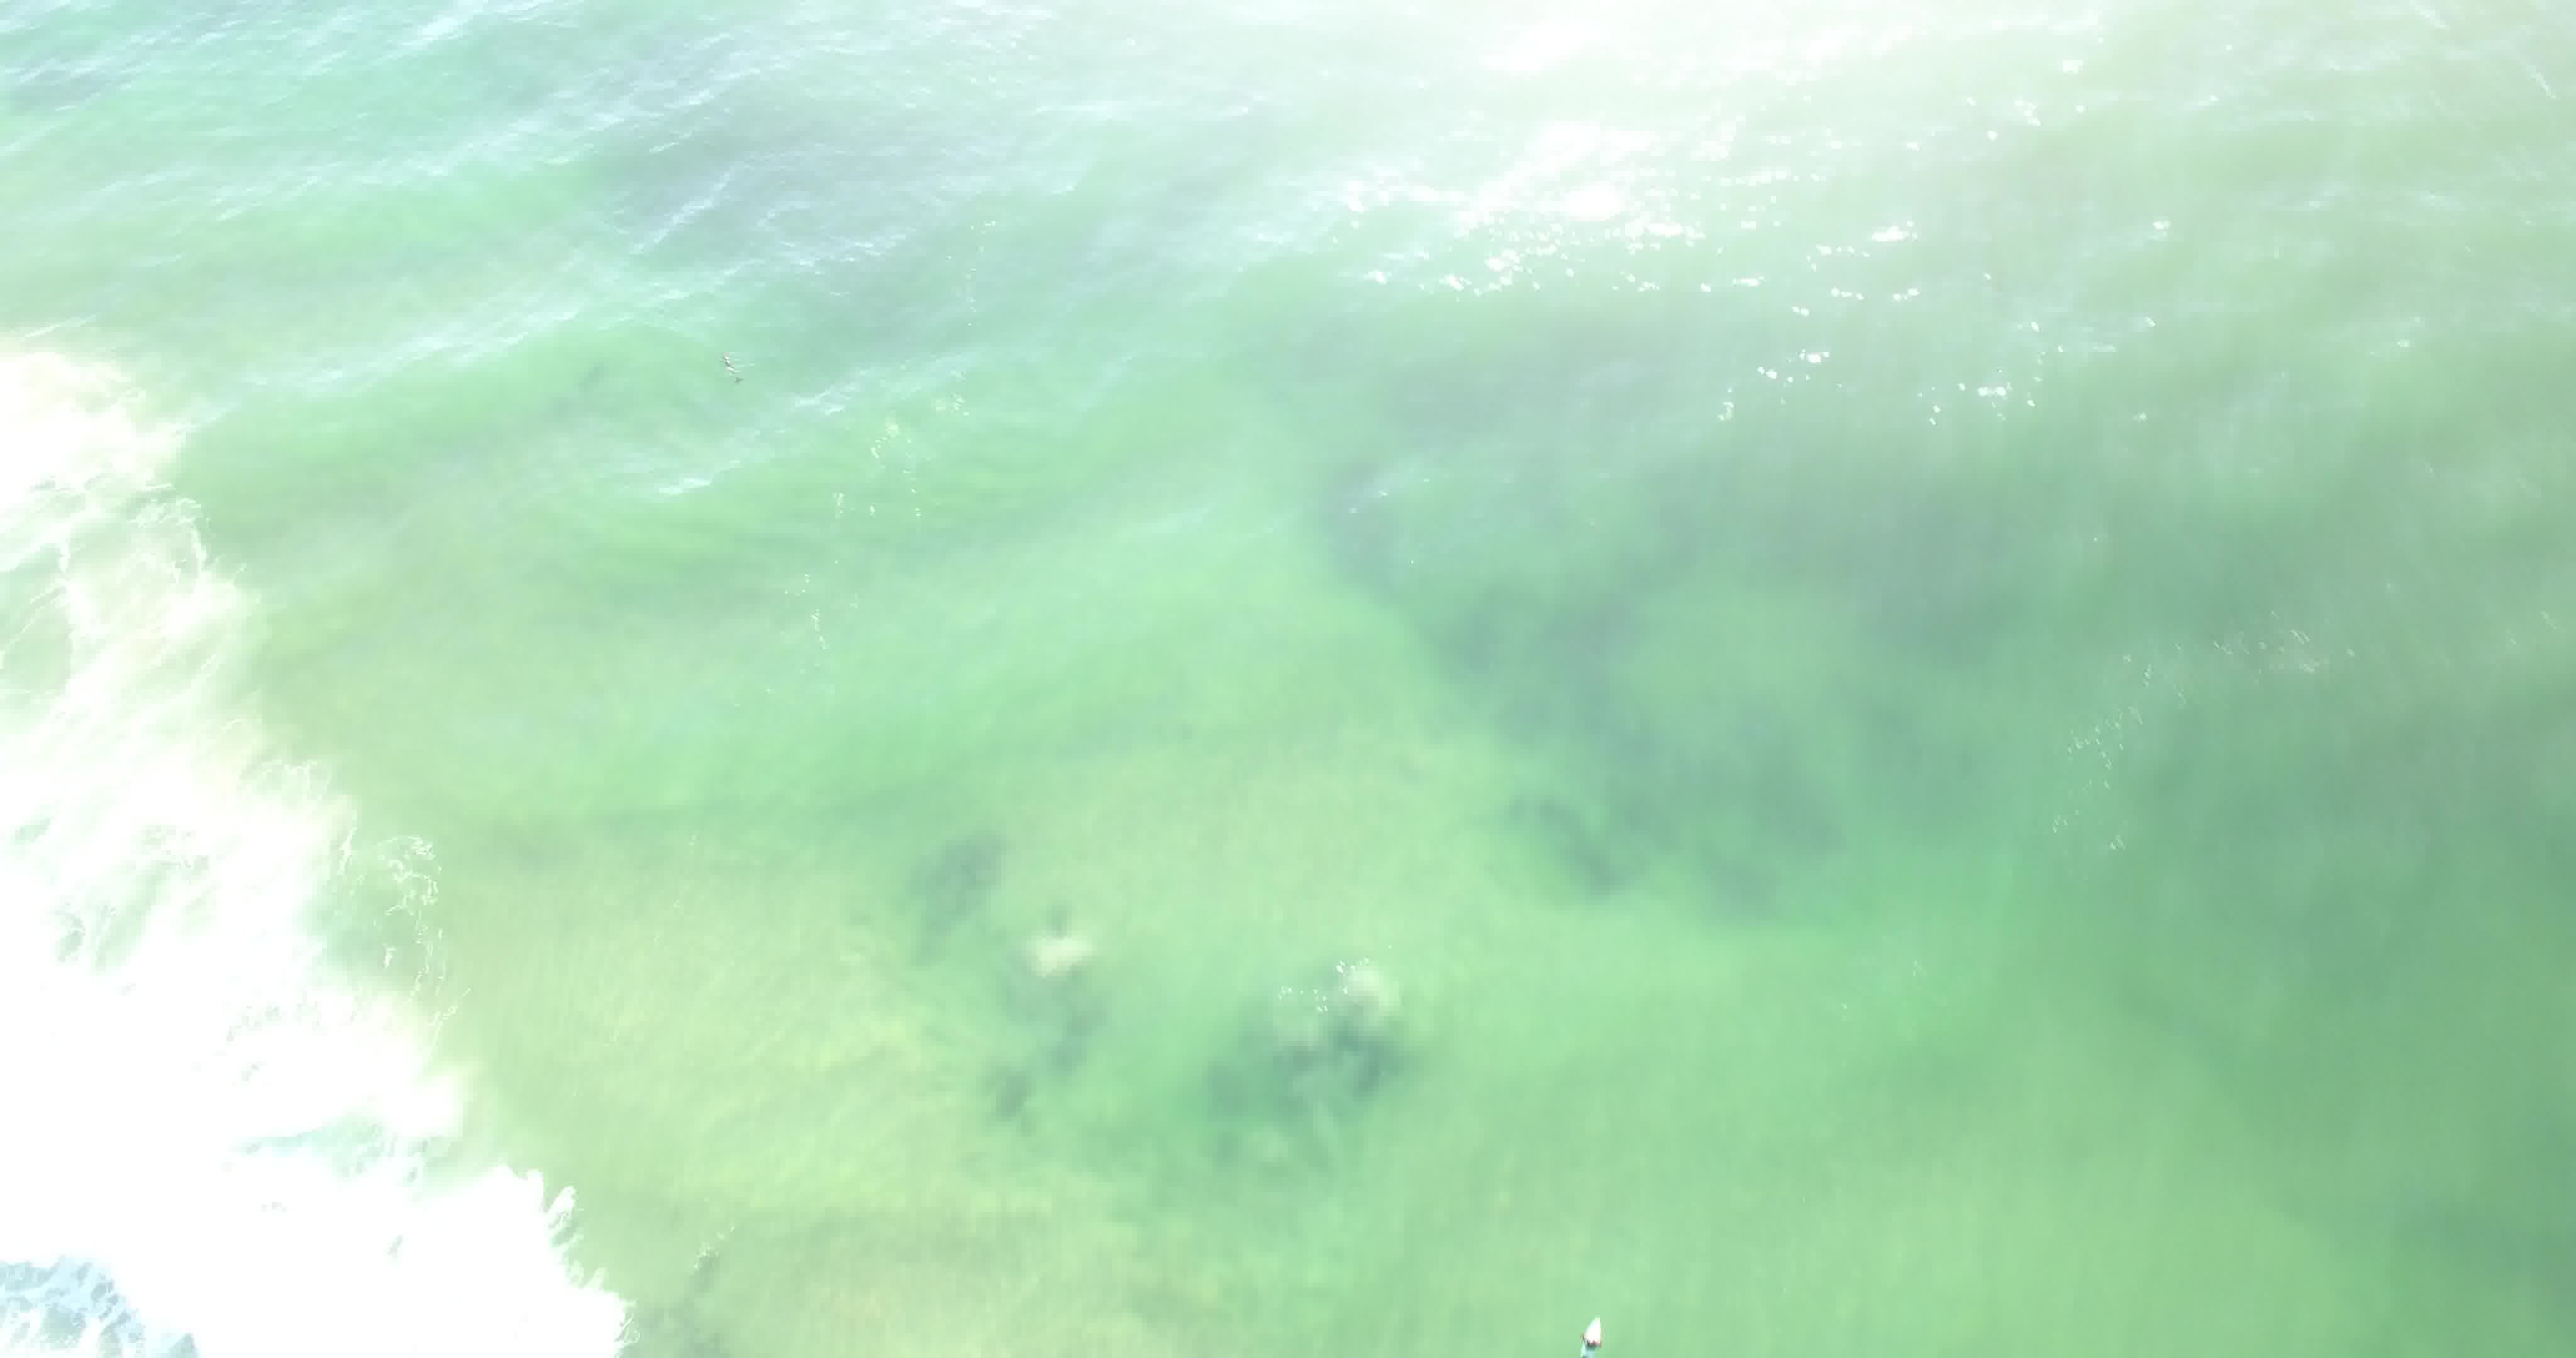dolphin: (704, 334, 756, 394)
